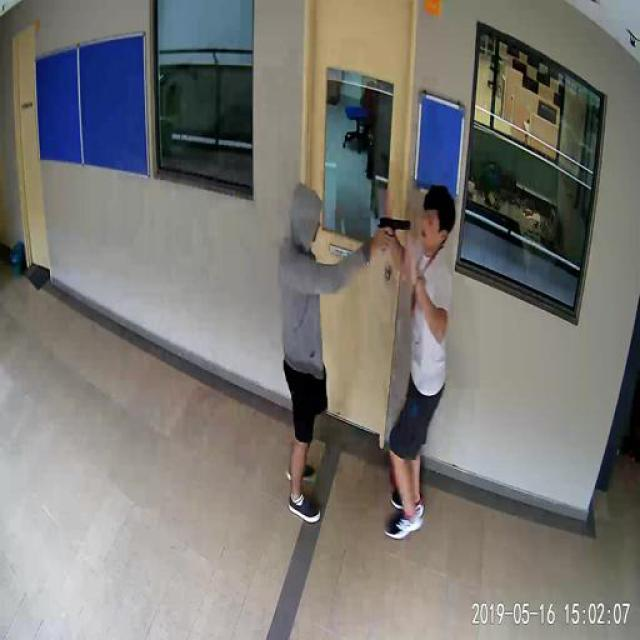Gun: (376, 215, 409, 248)
